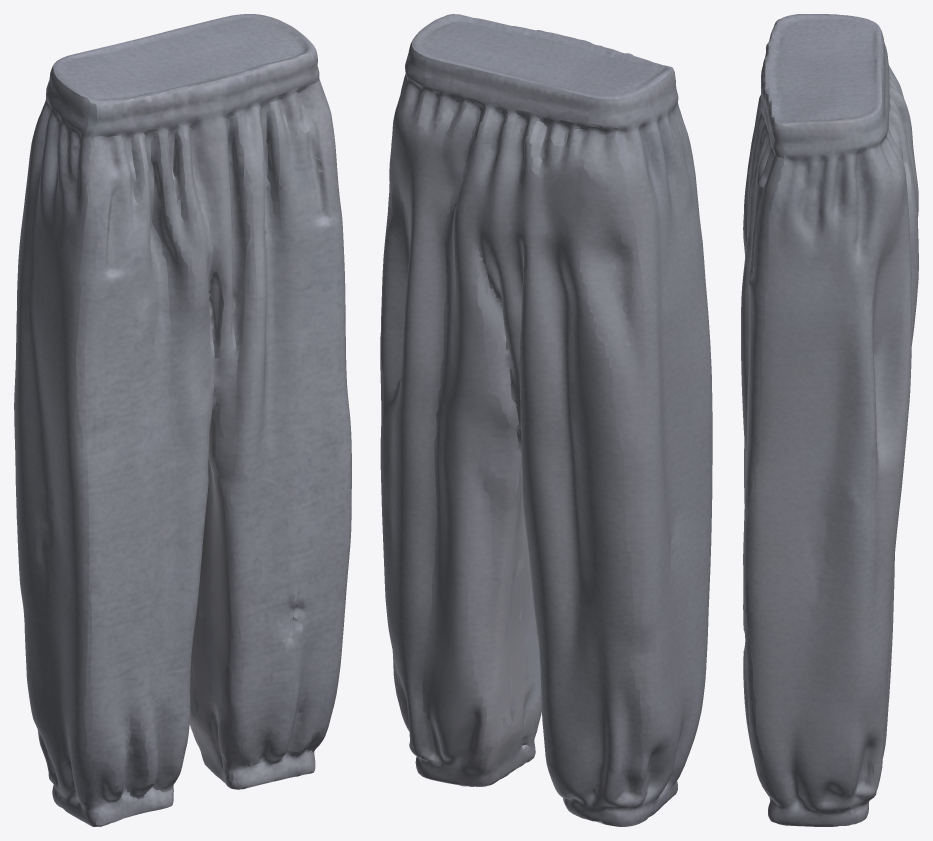
The picture shows the model from 3 angles, left to right: view 1: azimuth 30°, elevation 25°; view 2: azimuth 150°, elevation 25°; view 3: azimuth 270°, elevation 25°; orthographic projection. The views are drawn at different scales.
Visible parts, largest first — view 1: tmphppwfd0j.ply; view 2: tmphppwfd0j.ply; view 3: tmphppwfd0j.ply.
Boxes of the visible parts, left/top/right/bottom form: tmphppwfd0j.ply: left=14, top=14, right=351, bottom=826; tmphppwfd0j.ply: left=380, top=14, right=712, bottom=826; tmphppwfd0j.ply: left=741, top=14, right=918, bottom=826.
Size of the model in its own units: 0.7957 by 1.99 by 0.4516.
1 material, 1 textured.
